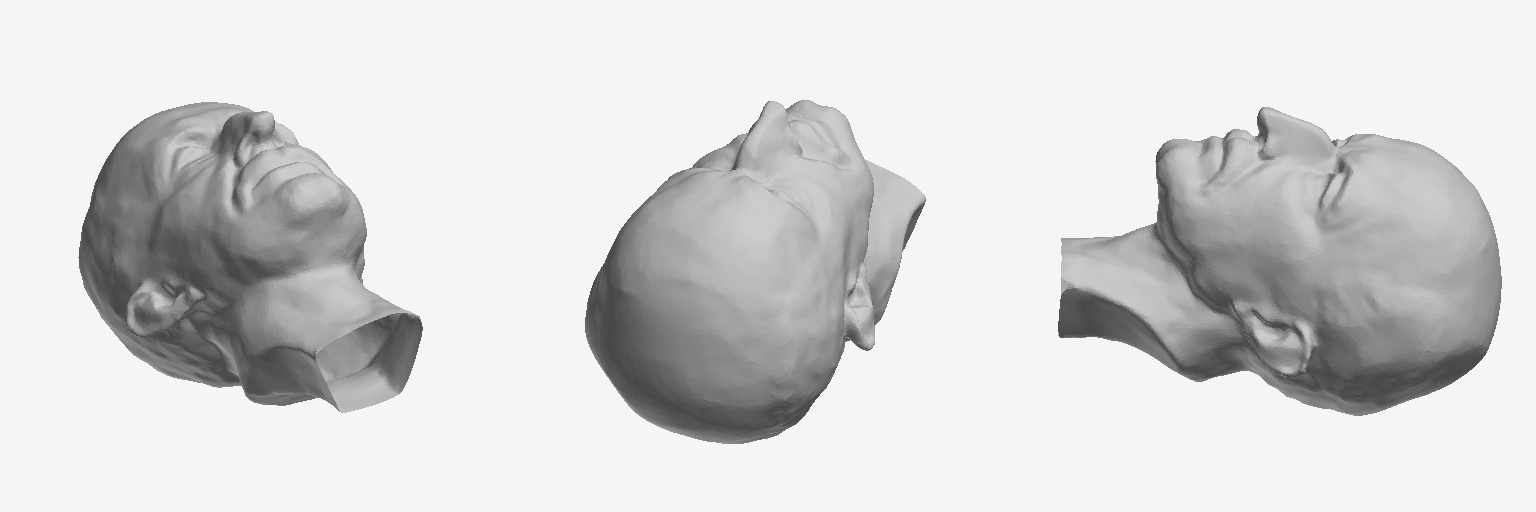
File: Obama.obj
3 views of the same model, side by side, from view 1: azimuth 30°, elevation 25°; view 2: azimuth 150°, elevation 25°; view 3: azimuth 270°, elevation 25° (orthographic).
Visible parts, largest first — view 1: Obama; view 2: Obama; view 3: Obama.
Boxes of the visible parts, <box> form: Obama: <box>78,102,422,412</box>; Obama: <box>585,100,925,443</box>; Obama: <box>1058,107,1501,415</box>.
Bounding box in the file's own units: 4.8 × 5.94 × 8.06.